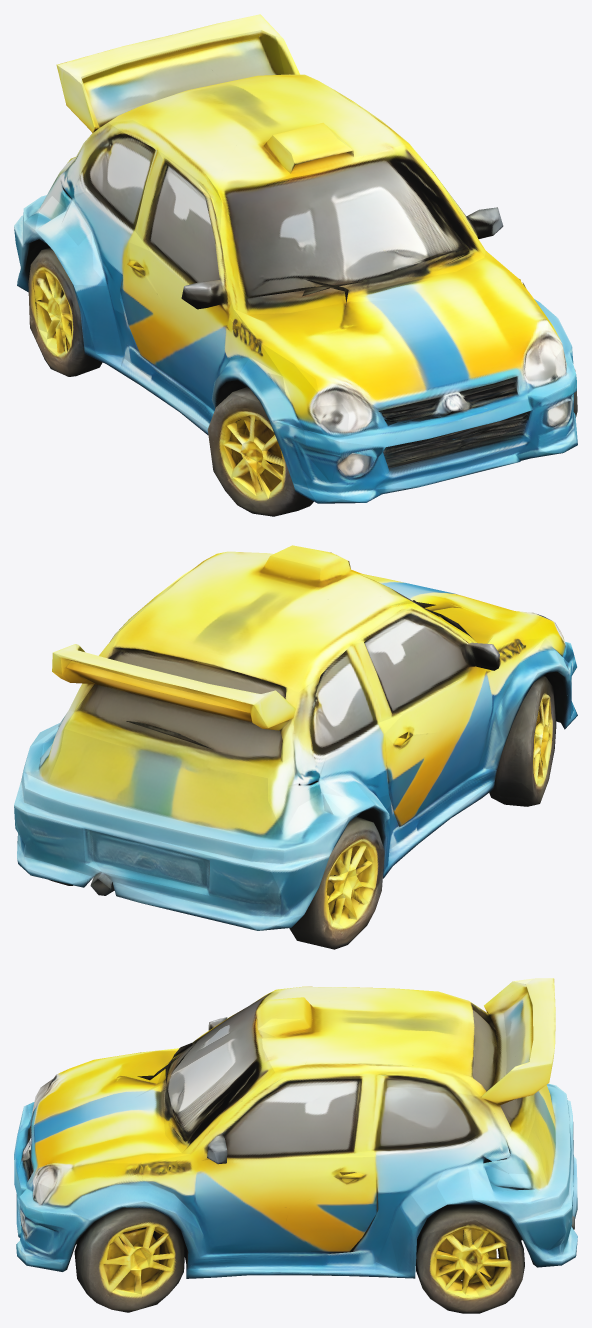
3 views of the same model, one above another, from view 1: azimuth 30°, elevation 25°; view 2: azimuth 150°, elevation 25°; view 3: azimuth 270°, elevation 25° (orthographic). The views are drawn at different scales.
Visible parts, largest first — view 1: model; view 2: model; view 3: model.
Part boxes in pixels (x1,y1,x2,y2): model: (14,14,577,516); model: (14,545,577,949); model: (14,978,577,1313).
Size of the model in its own units: 1.11 by 0.9145 by 1.9.
Materials: 1 (1 with a texture image).
